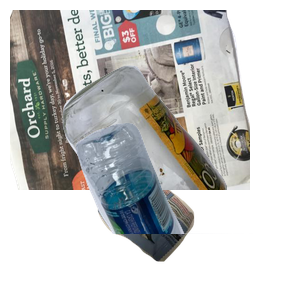glass: (60, 63, 300, 243)
paper: (10, 10, 250, 190)
plastic: (73, 120, 300, 300)
trash: (95, 157, 282, 300)
